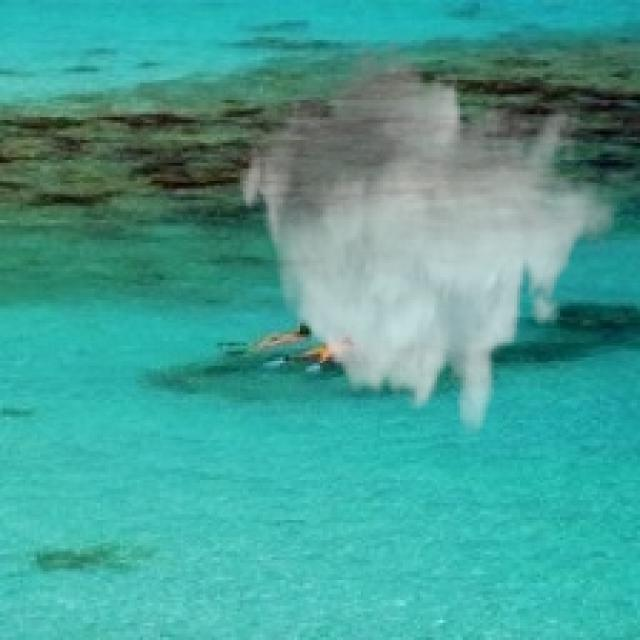smoke: (234, 29, 617, 437)
